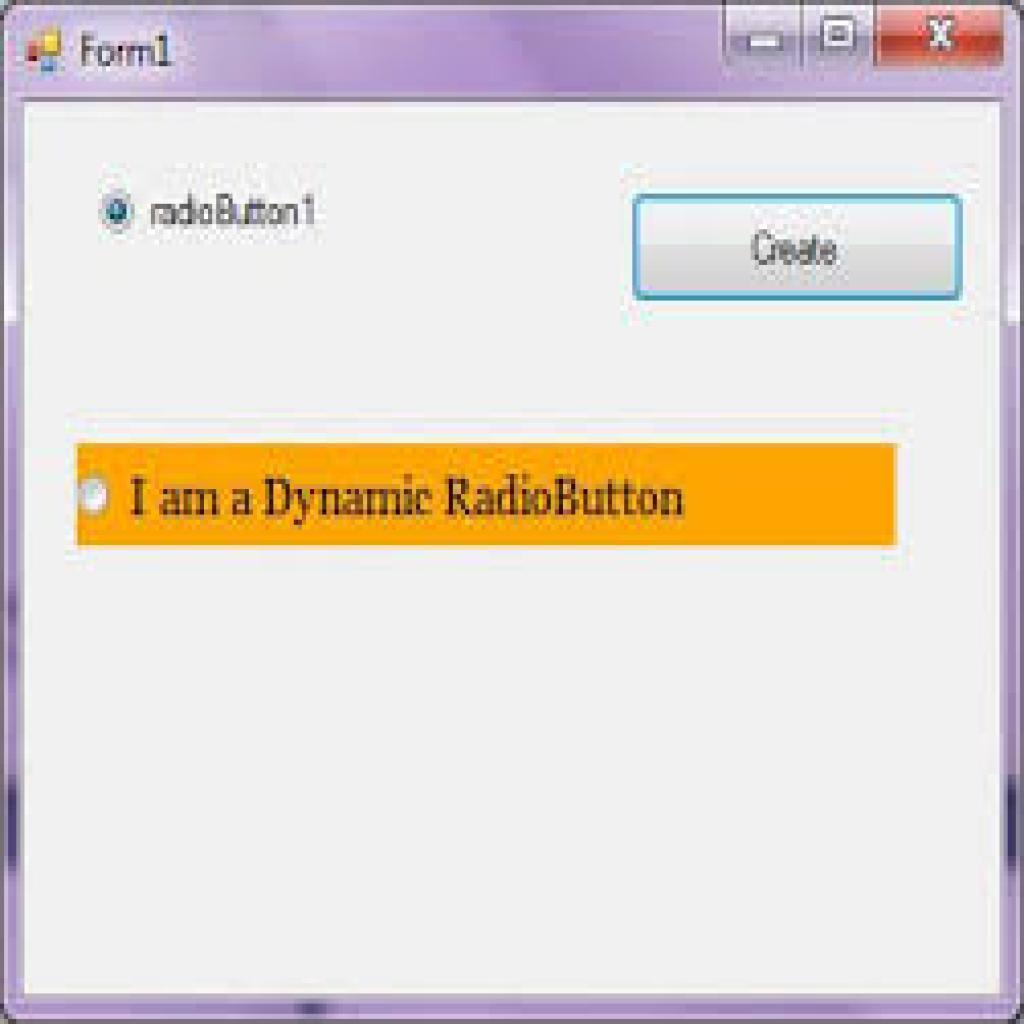button: (634, 196, 962, 303)
label: (144, 189, 320, 235)
radio: (93, 185, 138, 236), (79, 476, 107, 514)
